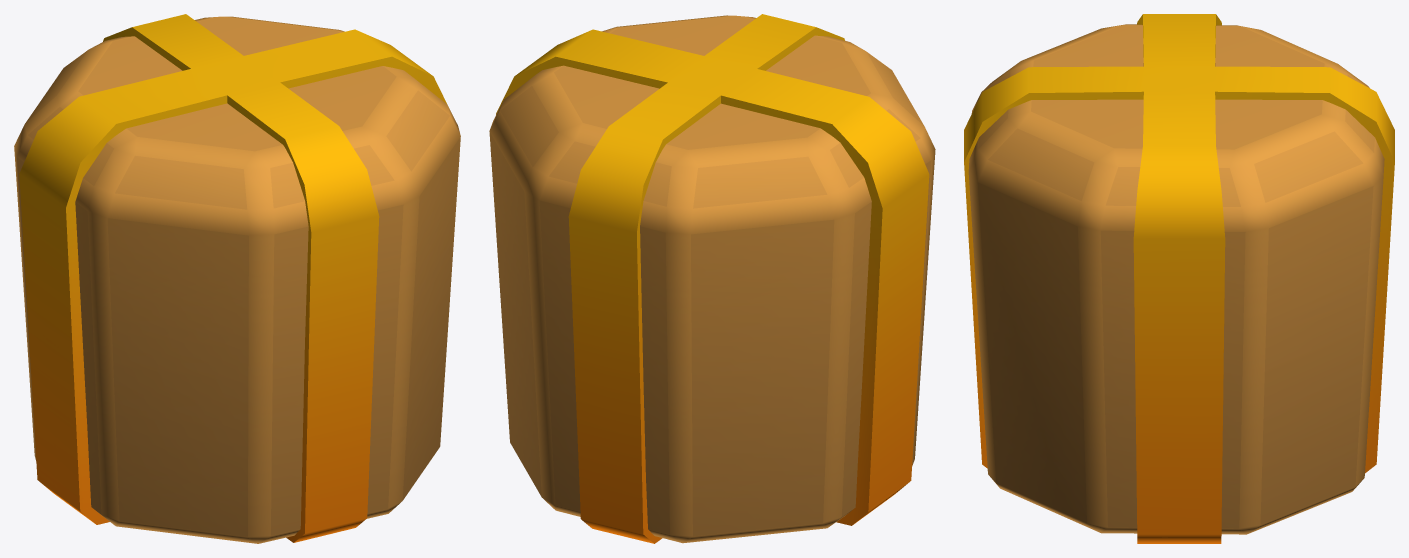
File: giftbox_011.fbx
3 renders of one model, left to right at view 1: azimuth 30°, elevation 25°; view 2: azimuth 150°, elevation 25°; view 3: azimuth 270°, elevation 25°, orthographic.
Visible parts, largest first — view 1: giftbox_011; view 2: giftbox_011; view 3: giftbox_011.
Boxes of the visible parts, x1,y1,x2,y2 form: giftbox_011: (14, 14, 460, 543); giftbox_011: (489, 14, 935, 543); giftbox_011: (964, 14, 1394, 543).
Bounding box in the file's own units: 236 × 232 × 231.
